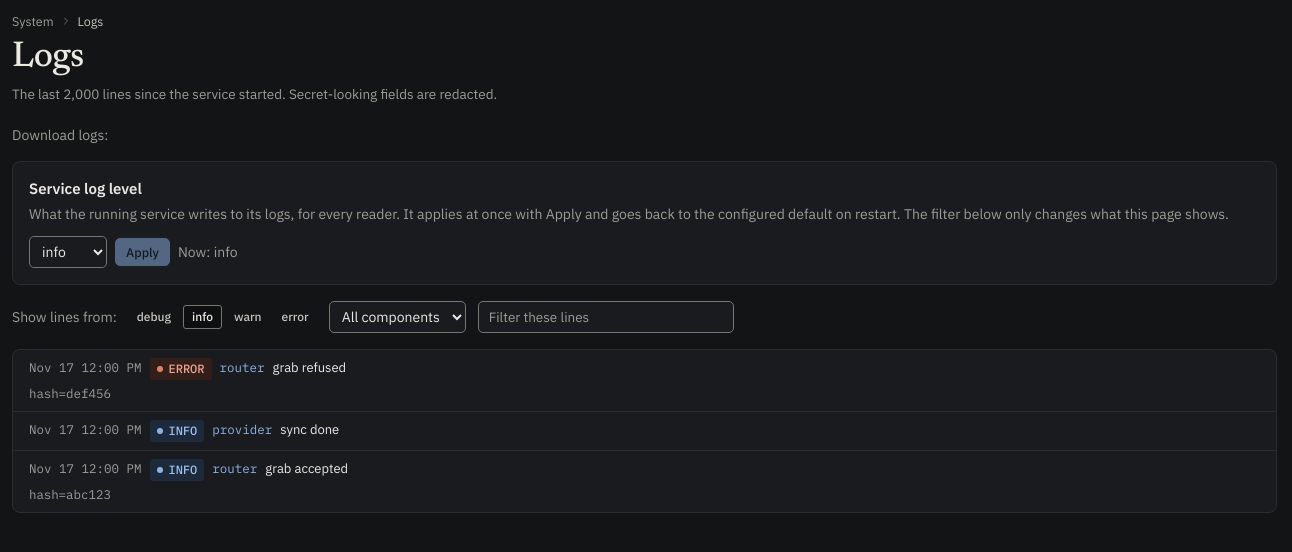
it: filters the loaded lines by words in the browser and says how many of them match
The image size is (1292, 552).
expect the text "sync done" is shown: met, box [280, 420, 339, 439]
Type "Router GRAB" into the search field labelled "Filter these lines" at (606, 317), box [478, 301, 734, 333]
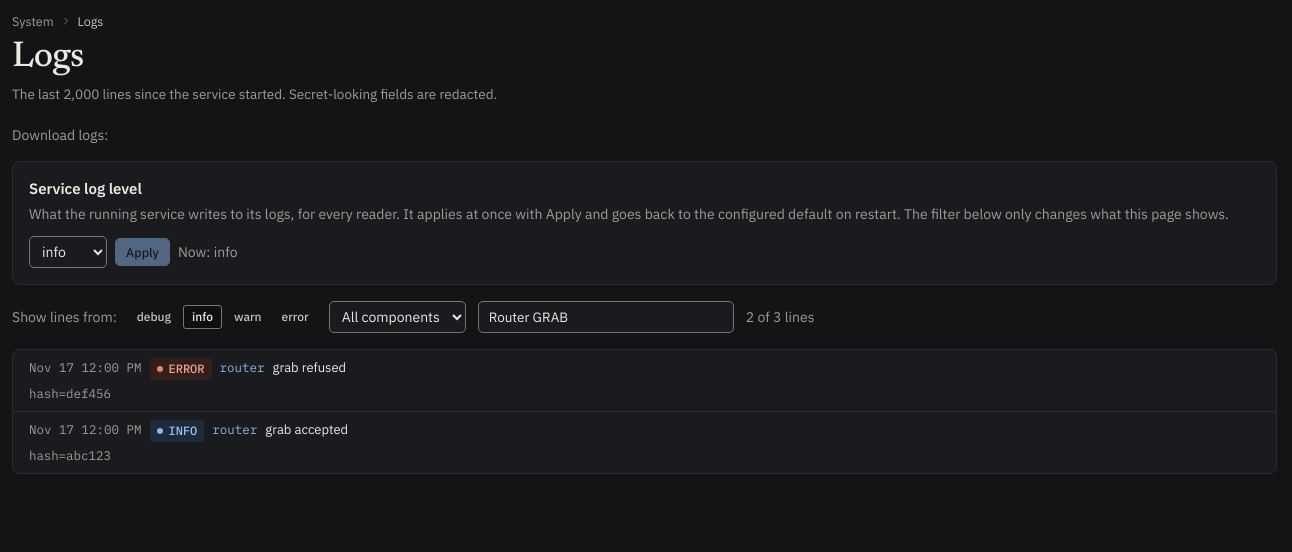
expect the text "grab accepted" is shown: met, box [265, 420, 348, 439]
expect the text "sync done" is gone: met
expect the message with test id "log-filter-count" reads "2 of 3 lines": met, box [746, 307, 814, 327]
// A field's value matches too.
Replace the text in the search field named "Filter these lines" with "def456" at (606, 317), box [478, 301, 734, 333]
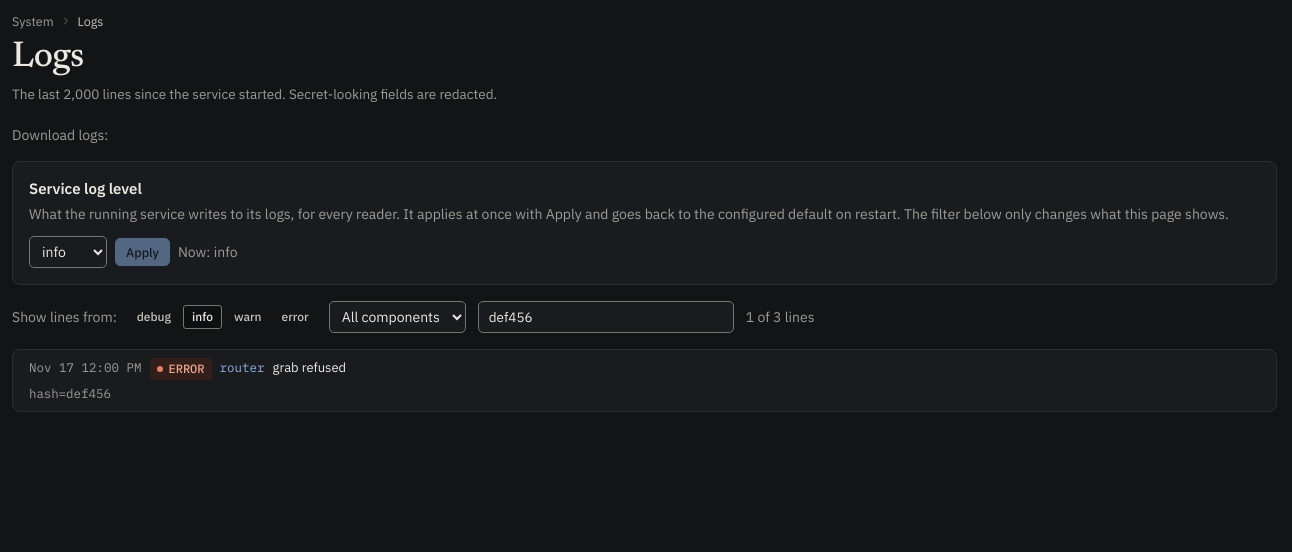
expect the text "grab refused" is shown: met, box [272, 358, 346, 378]
expect the message with test id "log-filter-count" reads "1 of 3 lines": met, box [746, 307, 814, 327]
// The level shown on the badge matches too.
Replace the text in the search field named "Filter these lines" with "error router" at (606, 317), box [478, 301, 734, 333]
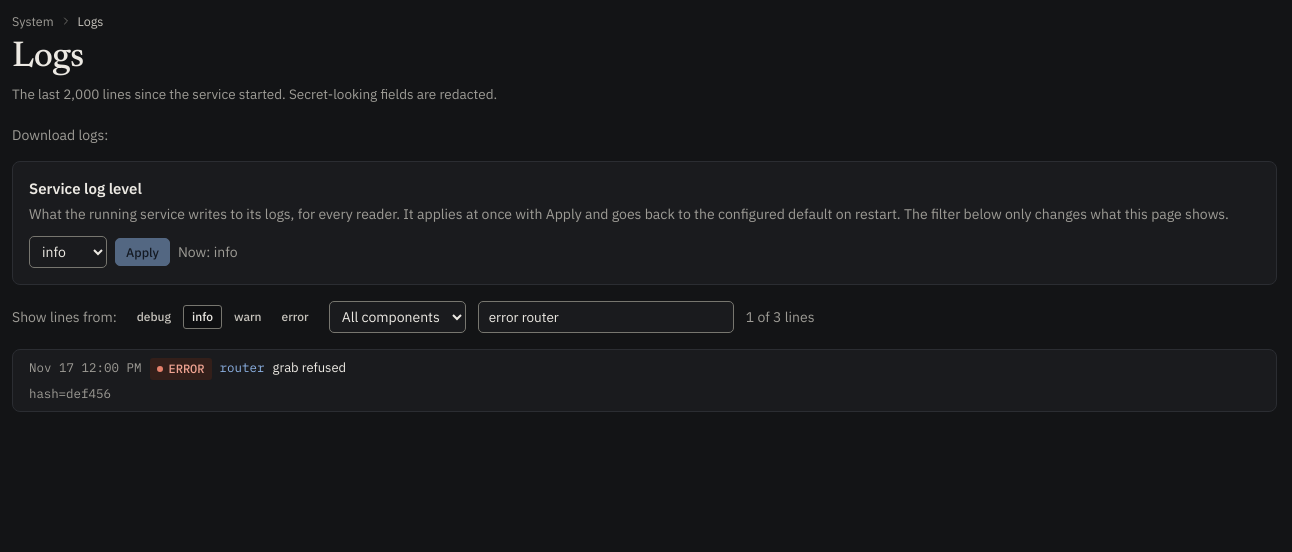
expect the text "grab refused" is shown: met, box [272, 358, 346, 378]
expect the message with test id "log-filter-count" reads "1 of 3 lines": met, box [746, 307, 814, 327]
Replace the text in the search field named "Filter these lines" with "nothing-like-this" at (606, 317), box [478, 301, 734, 333]
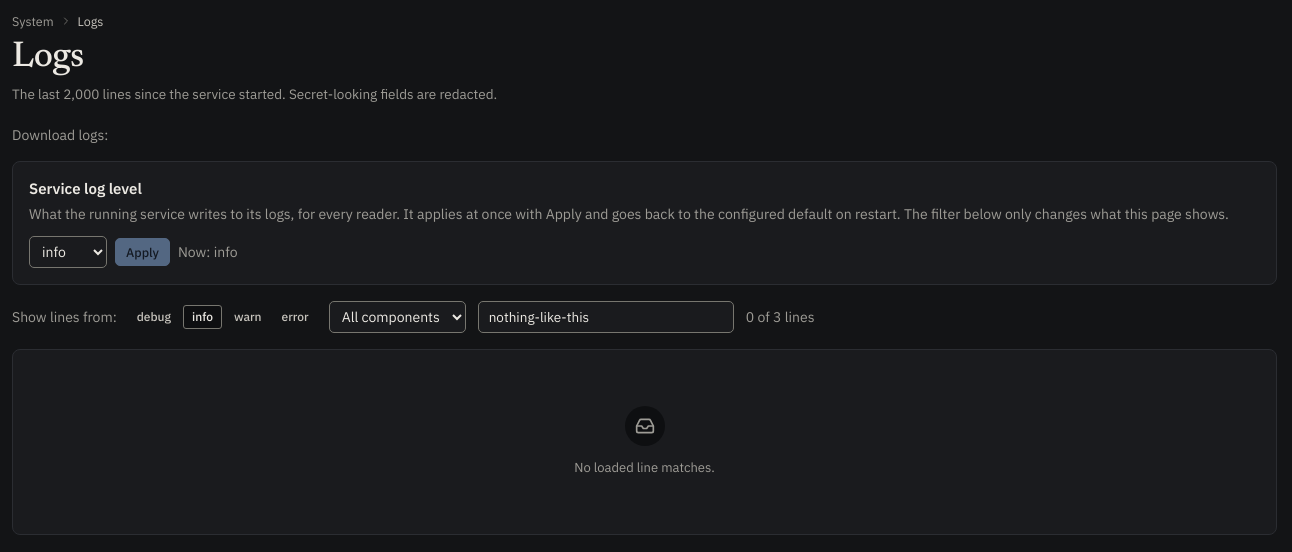
expect the text "No loaded line matches." is shown: met, box [574, 406, 715, 476]
